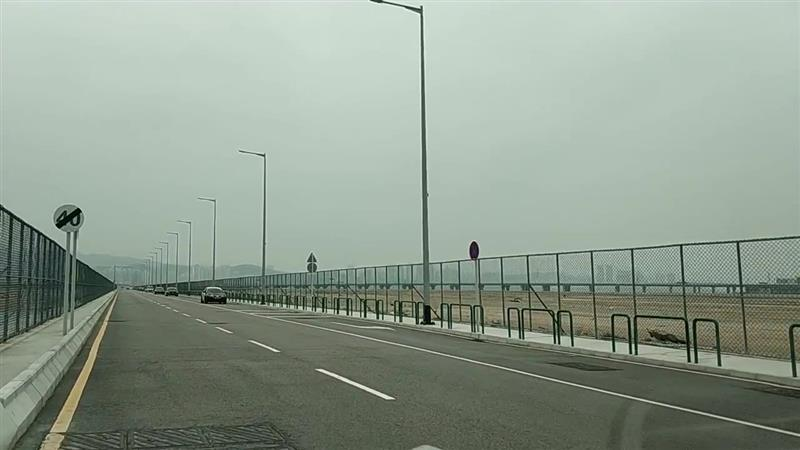car: (200, 285, 228, 305), (164, 287, 180, 296)
limit40No: (54, 204, 86, 233)
